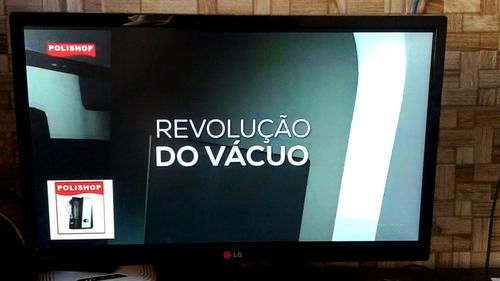Polishop #1: (47, 180, 115, 239)
